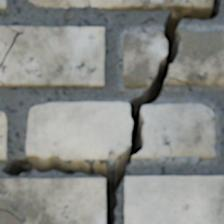brick: (0, 27, 103, 86), (125, 176, 223, 223), (0, 179, 104, 223), (29, 0, 211, 8), (0, 27, 14, 60), (0, 112, 6, 160), (0, 0, 5, 9)
broken_brick: (25, 101, 130, 160), (135, 102, 215, 159), (169, 26, 223, 85), (123, 27, 165, 88), (165, 80, 188, 86)
crack: (2, 0, 221, 223), (0, 25, 23, 68), (0, 79, 5, 85)
